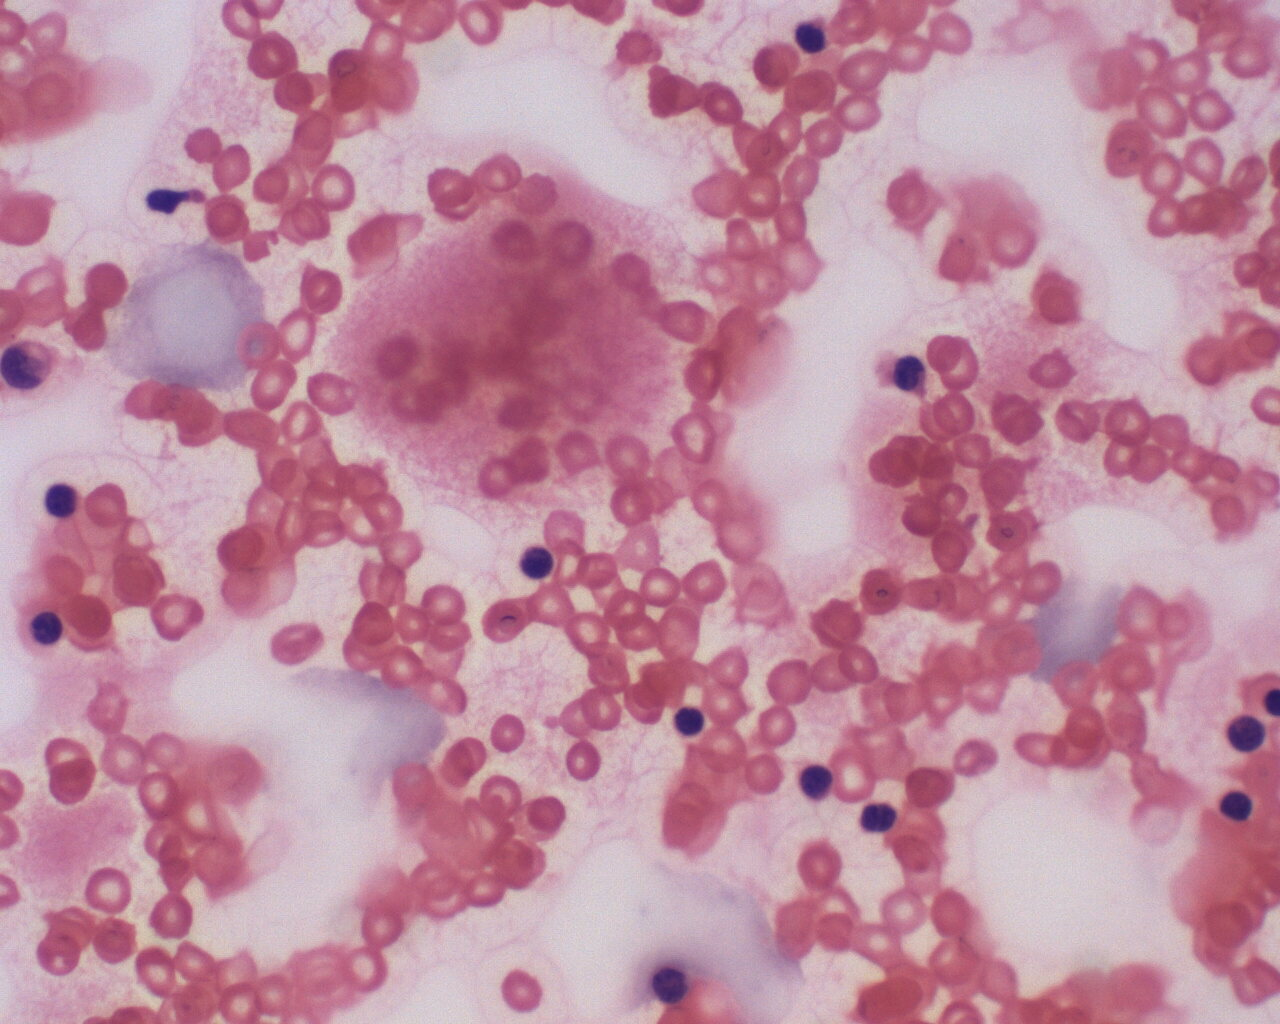lymph: (785, 751, 846, 805), (507, 538, 560, 587), (660, 699, 715, 744), (1213, 783, 1256, 828)
